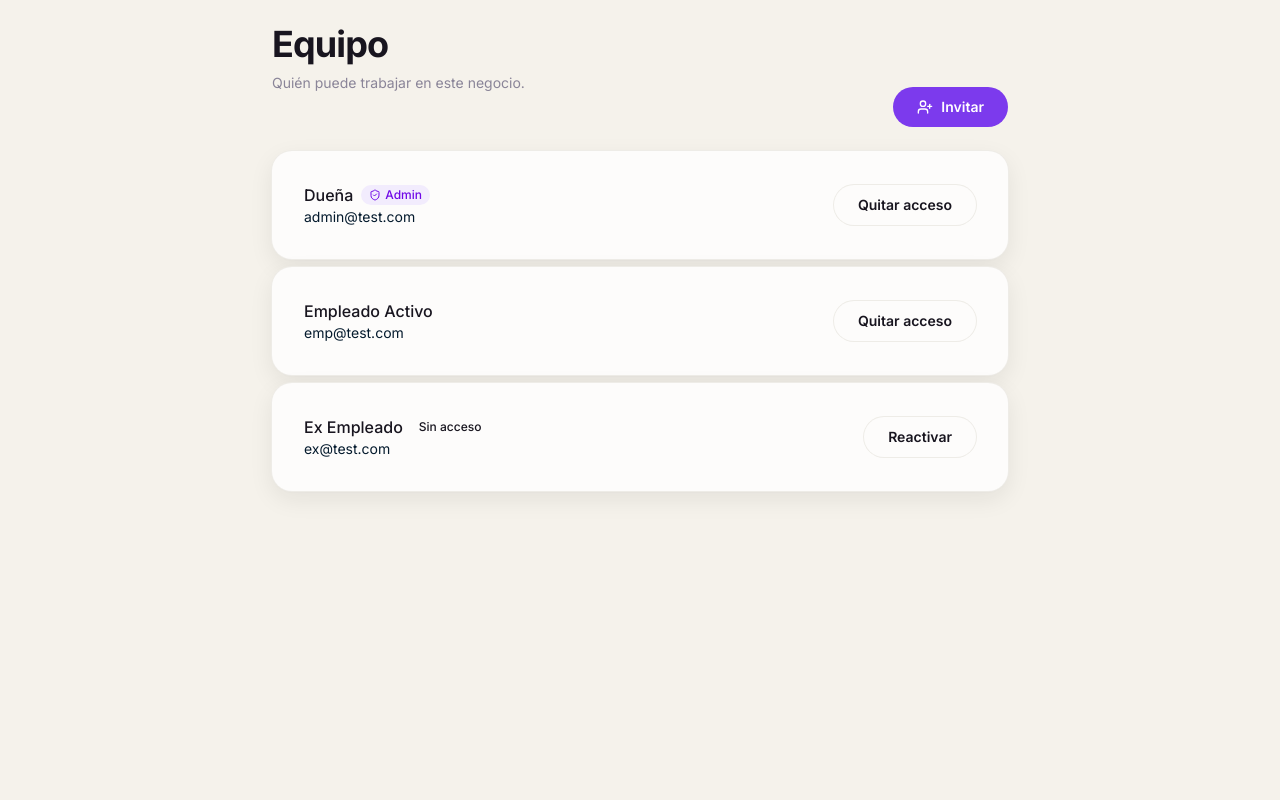
EquipoPage — invitación › muestra el código con su advertencia de que no se recupera
Click the button "Invitar".
click(951, 107)  # box [893,87,1008,127]
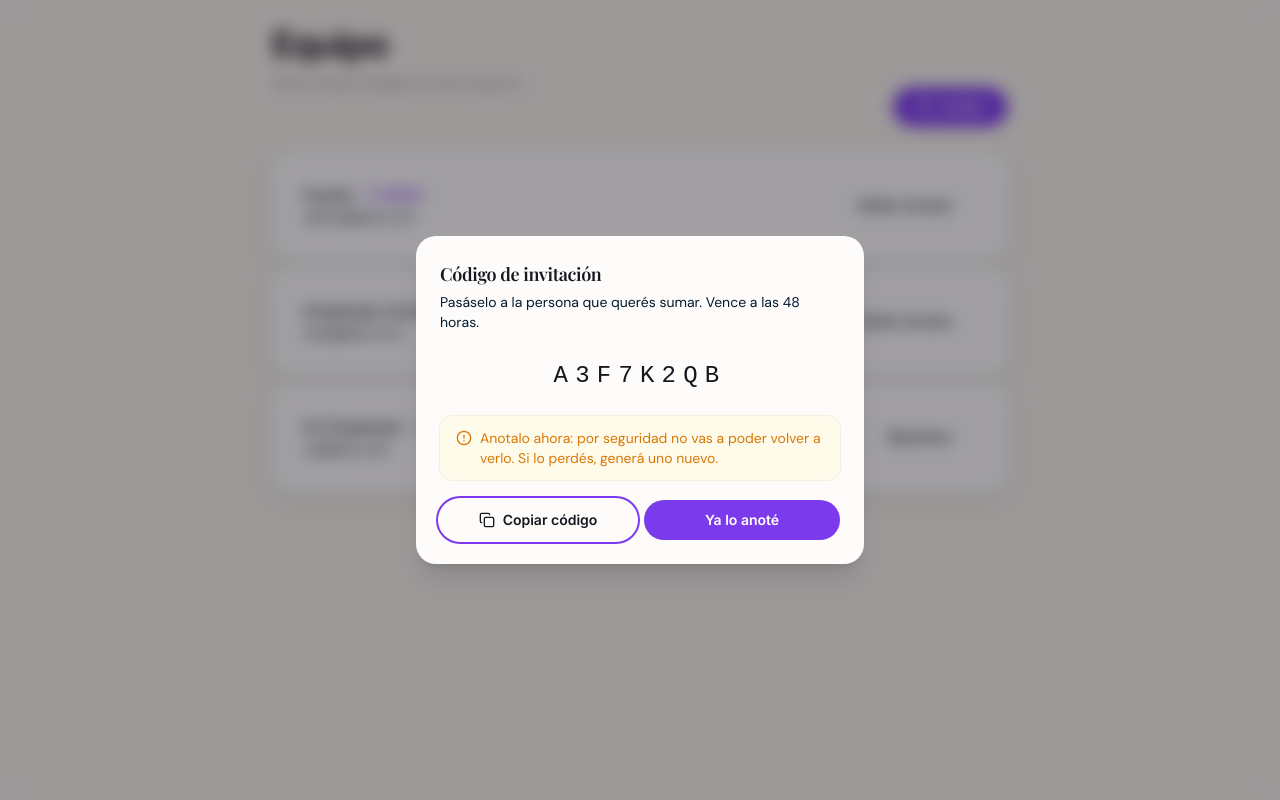
Result: the text with test id "codigo-invitacion" reads "A3F7K2QB" at [554,362,726,389]
Result: the text "no vas a poder volver a verlo" is shown at [480,429,821,467]
Result: the button "Copiar código" is shown at [440,500,636,540]
